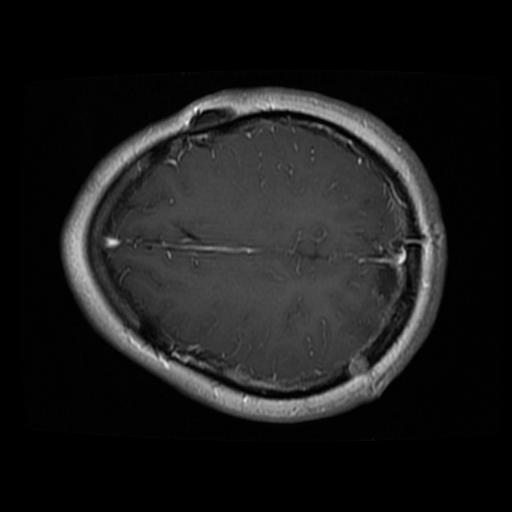glioma: (371, 262, 398, 304)
